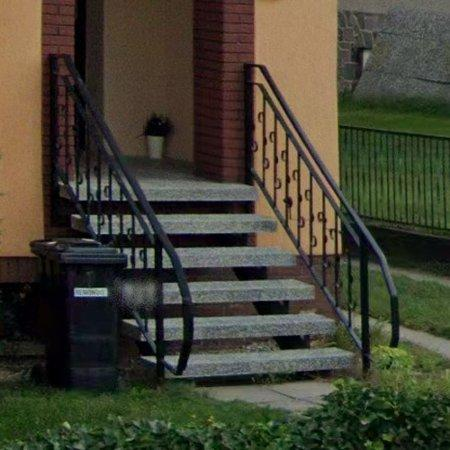stairs: (127, 159, 354, 380), (101, 200, 184, 370)
